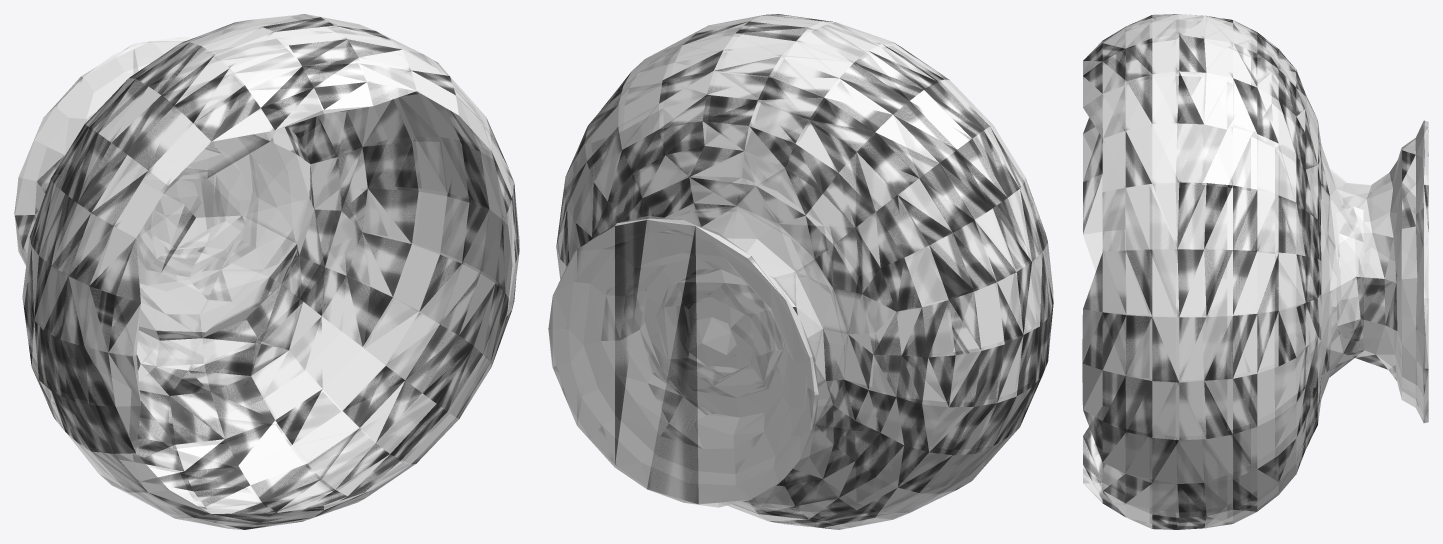
File: model_align.obj
3 views of the same model, side by side, from view 1: azimuth 30°, elevation 25°; view 2: azimuth 150°, elevation 25°; view 3: azimuth 270°, elevation 25° (orthographic). The views are drawn at different scales.
Bounding box in the file's own units: 0.1394 × 0.1394 × 0.0922.
